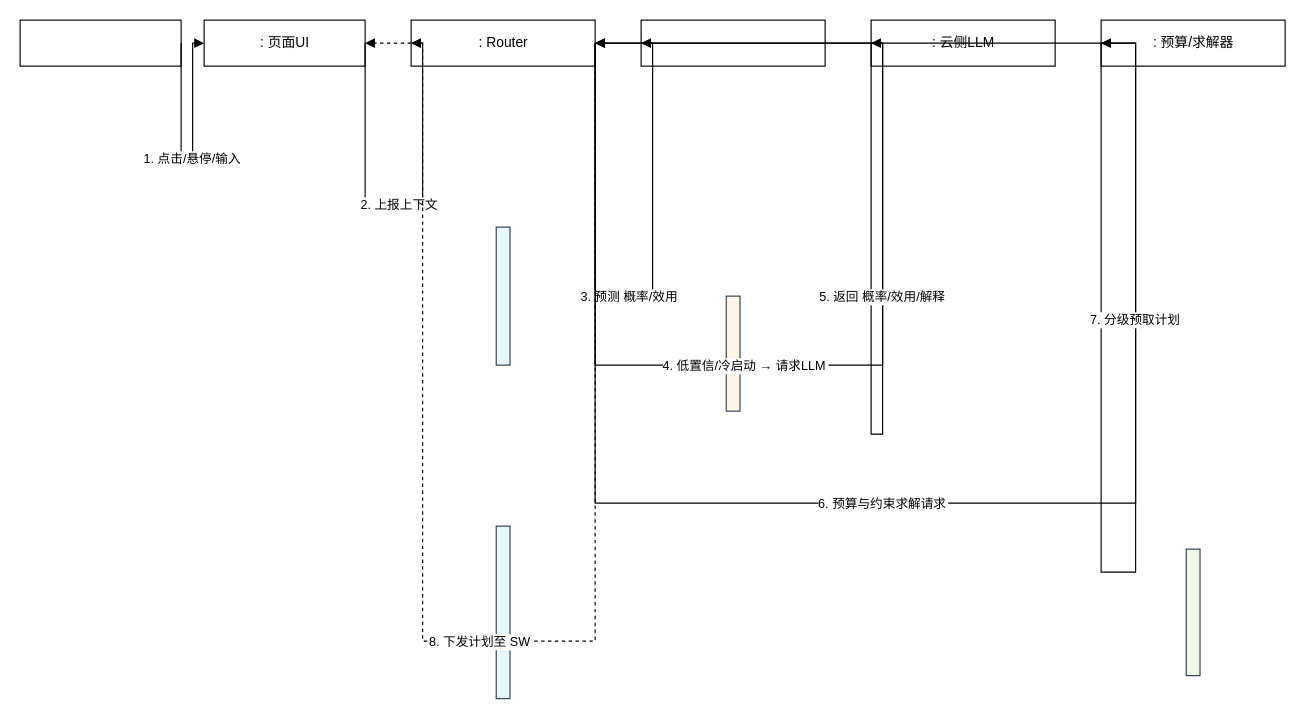
The diagram is 1305 pixels wide and 719 high, and some of its shapes have lost their labels. The box of each missing label's shape, as (x1, y1, x2, y2) in pixels:
: 用户: (19, 19, 181, 66)
: 端侧模型: (640, 19, 825, 66)
